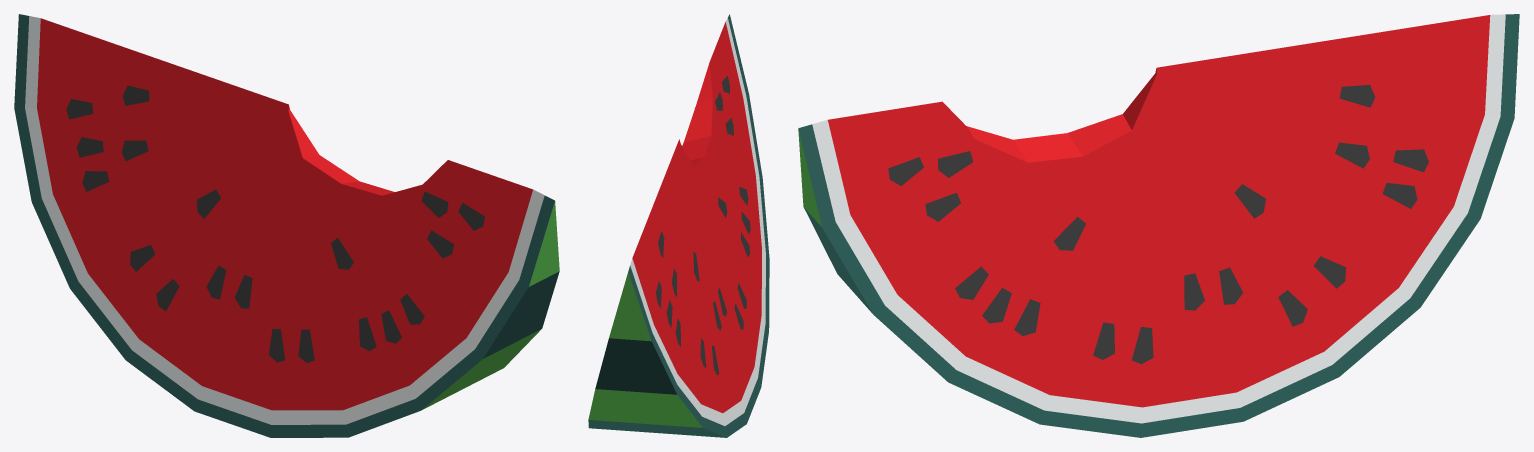
Rendered from watermelon-bite.fbx.
The picture shows the model from 3 angles, left to right: view 1: azimuth 30°, elevation 25°; view 2: azimuth 150°, elevation 25°; view 3: azimuth 270°, elevation 25°; orthographic projection. The views are drawn at different scales.
Parts seen in each view (by area): view 1: Sphere.009; view 2: Sphere.009; view 3: Sphere.009.
Boxes of the visible parts, x1,y1,x2,y2 form: Sphere.009: (14,14,559,437); Sphere.009: (588,14,769,437); Sphere.009: (798,14,1519,437).
Bounding box in the file's own units: 41.75 × 46.12 × 92.8.
